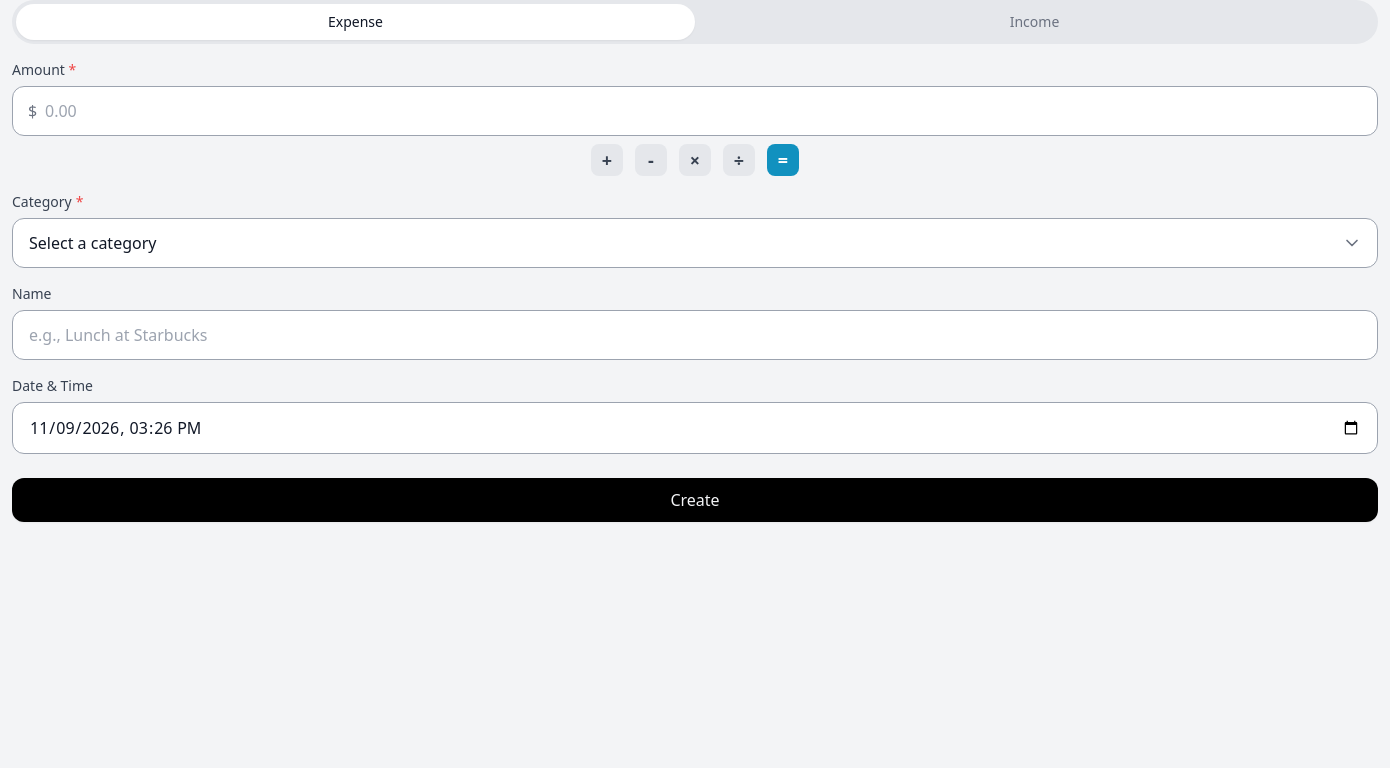
Test: TransactionForm income category regressions › requires an income category on create
Click the button "Income" at (1034,22), box [695,4,1374,40]
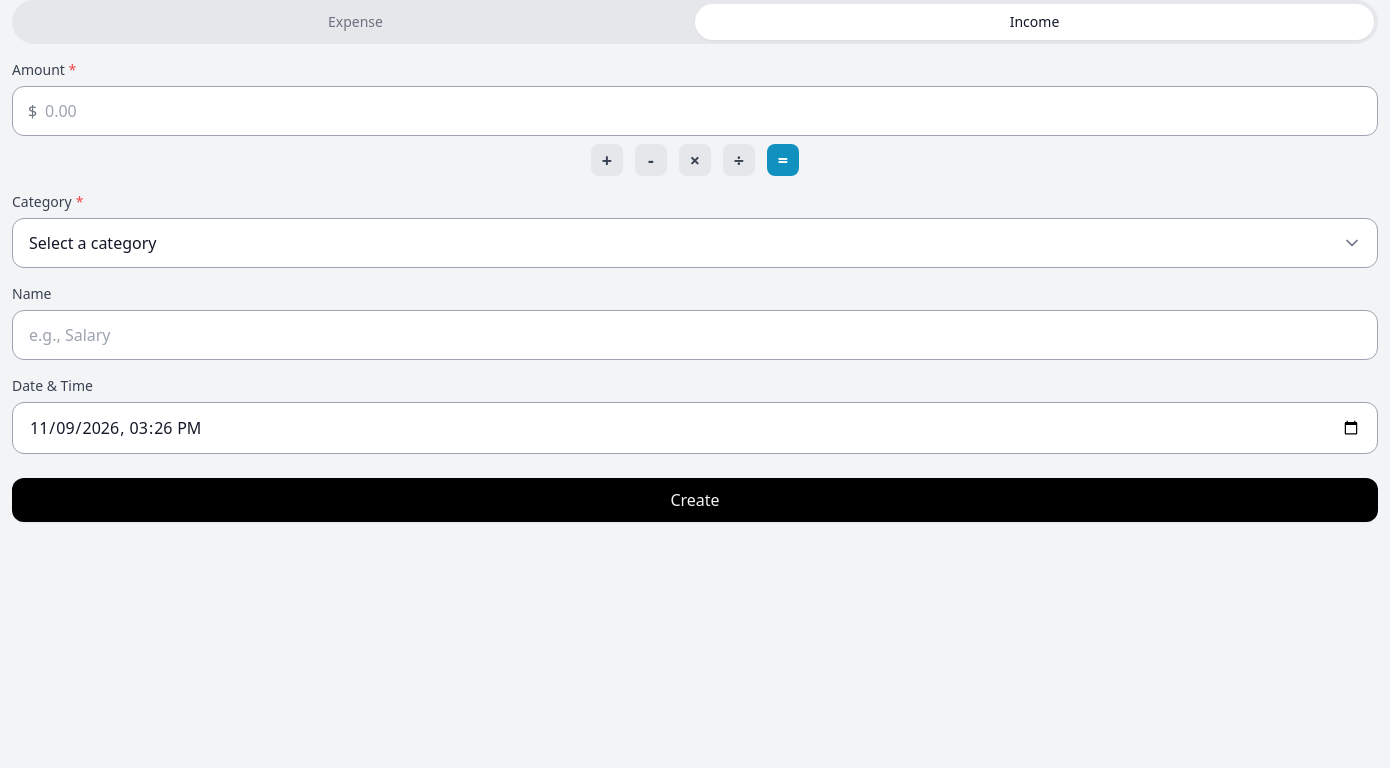
Type "100" into the field labelled "Amount *" at (695,111), box [12,86,1378,136]
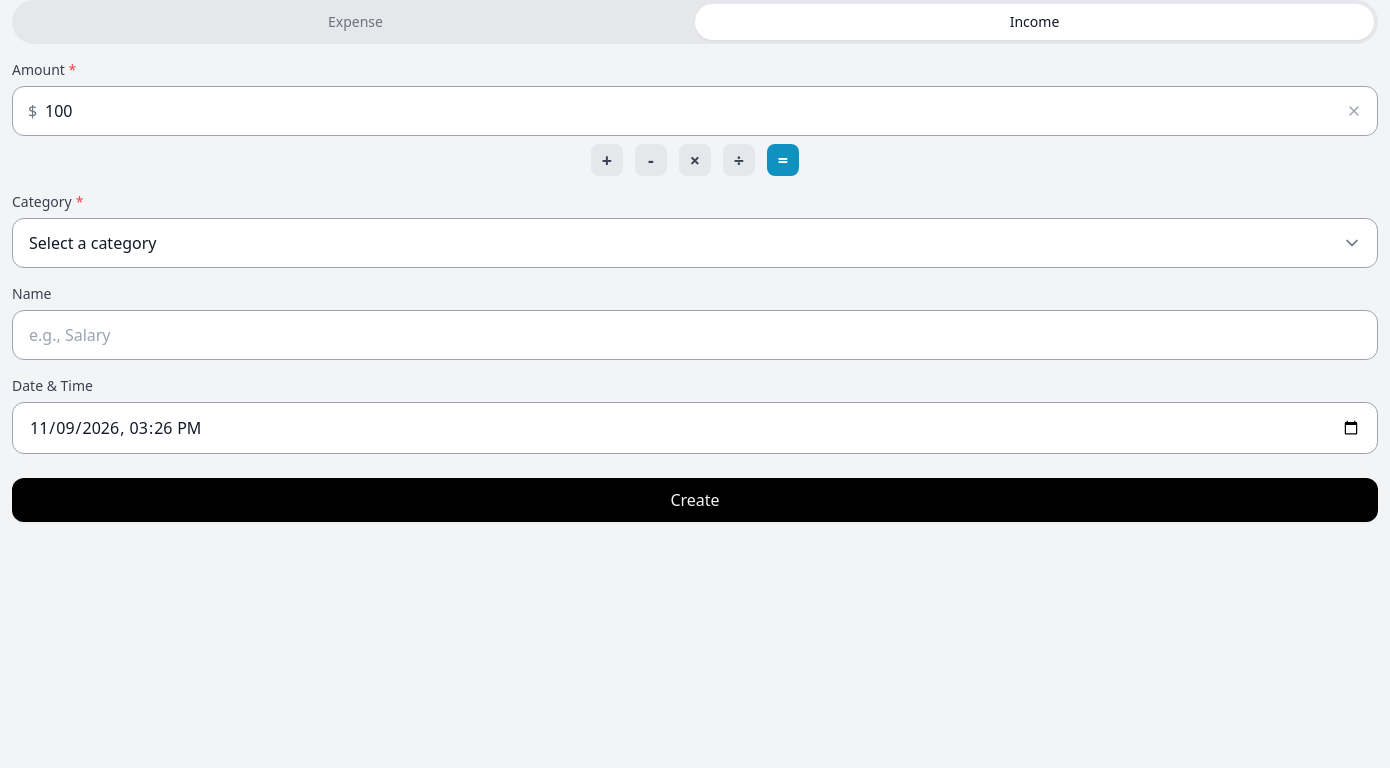
expect the dropdown labelled "Category*" is shown: met, box [12,218,1378,268]
Submit the form
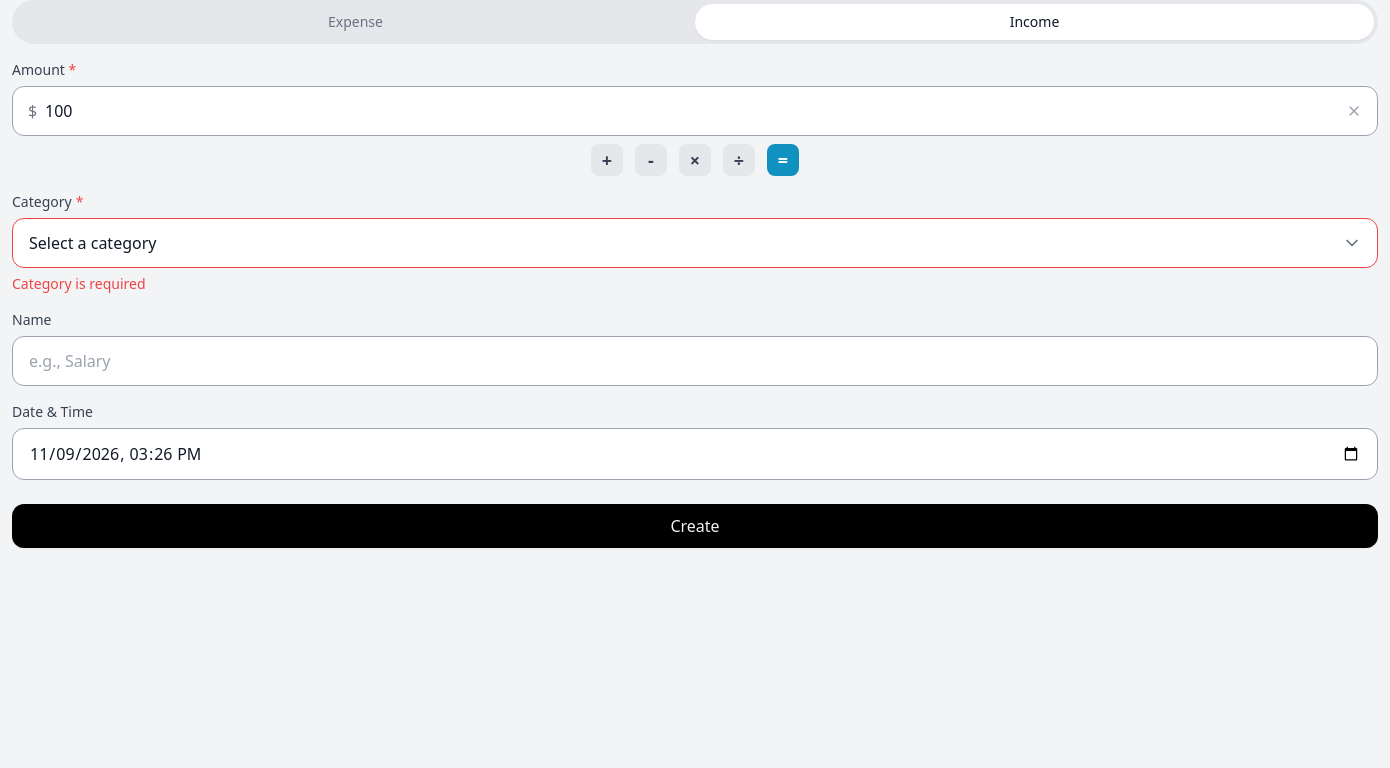
expect the text "Category is required" is shown: met, box [12,274,146,293]
